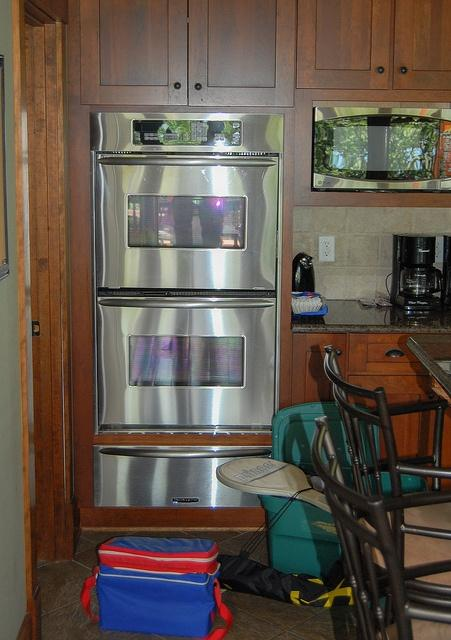Lemari: (74, 0, 296, 105), (294, 0, 450, 92)
